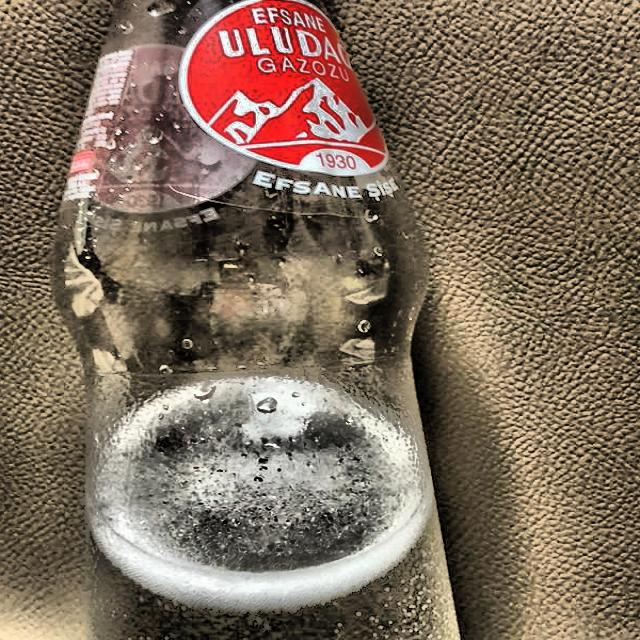plastic: (37, 0, 467, 640)
